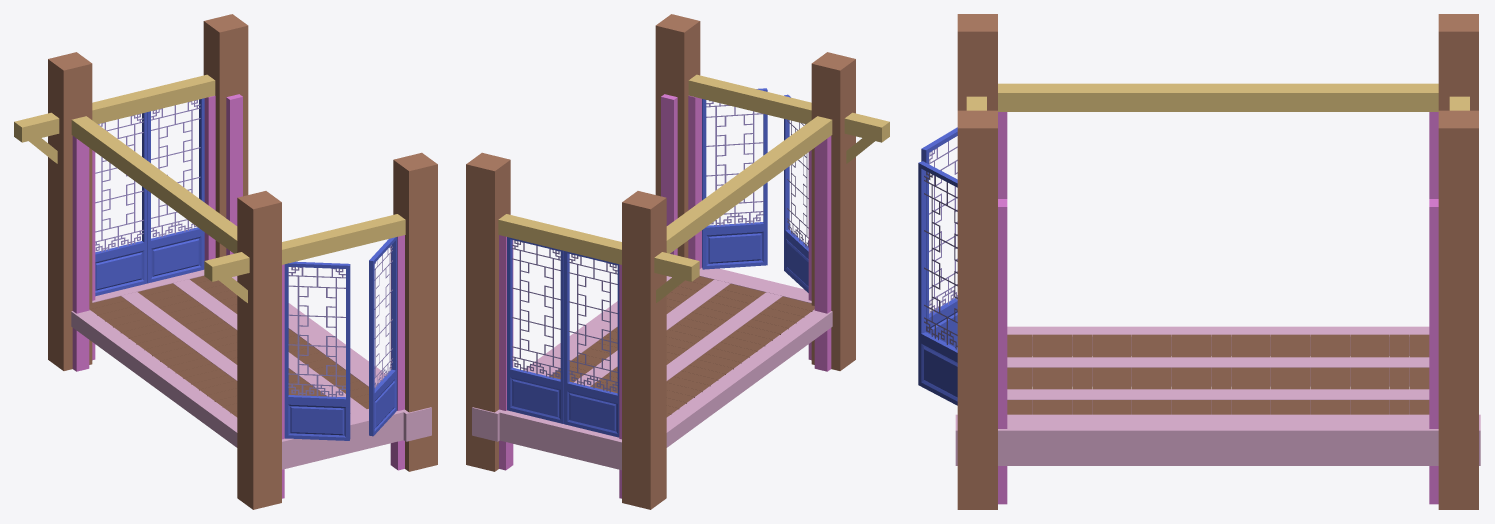
The model's file is Outside_Main.fbx.
The picture shows the model from 3 angles, left to right: view 1: azimuth 30°, elevation 25°; view 2: azimuth 150°, elevation 25°; view 3: azimuth 270°, elevation 25°; orthographic projection. The views are drawn at different scales.
Parts seen in each view (by area): view 1: MainPart_Outside; view 2: MainPart_Outside; view 3: MainPart_Outside.
Part boxes in pixels (x1=…): MainPart_Outside: x1=14, y1=14, x2=437, y2=509; MainPart_Outside: x1=466, y1=14, x2=889, y2=509; MainPart_Outside: x1=918, y1=14, x2=1480, y2=509.
Bounding box in the file's own units: 277 × 359 × 480.
